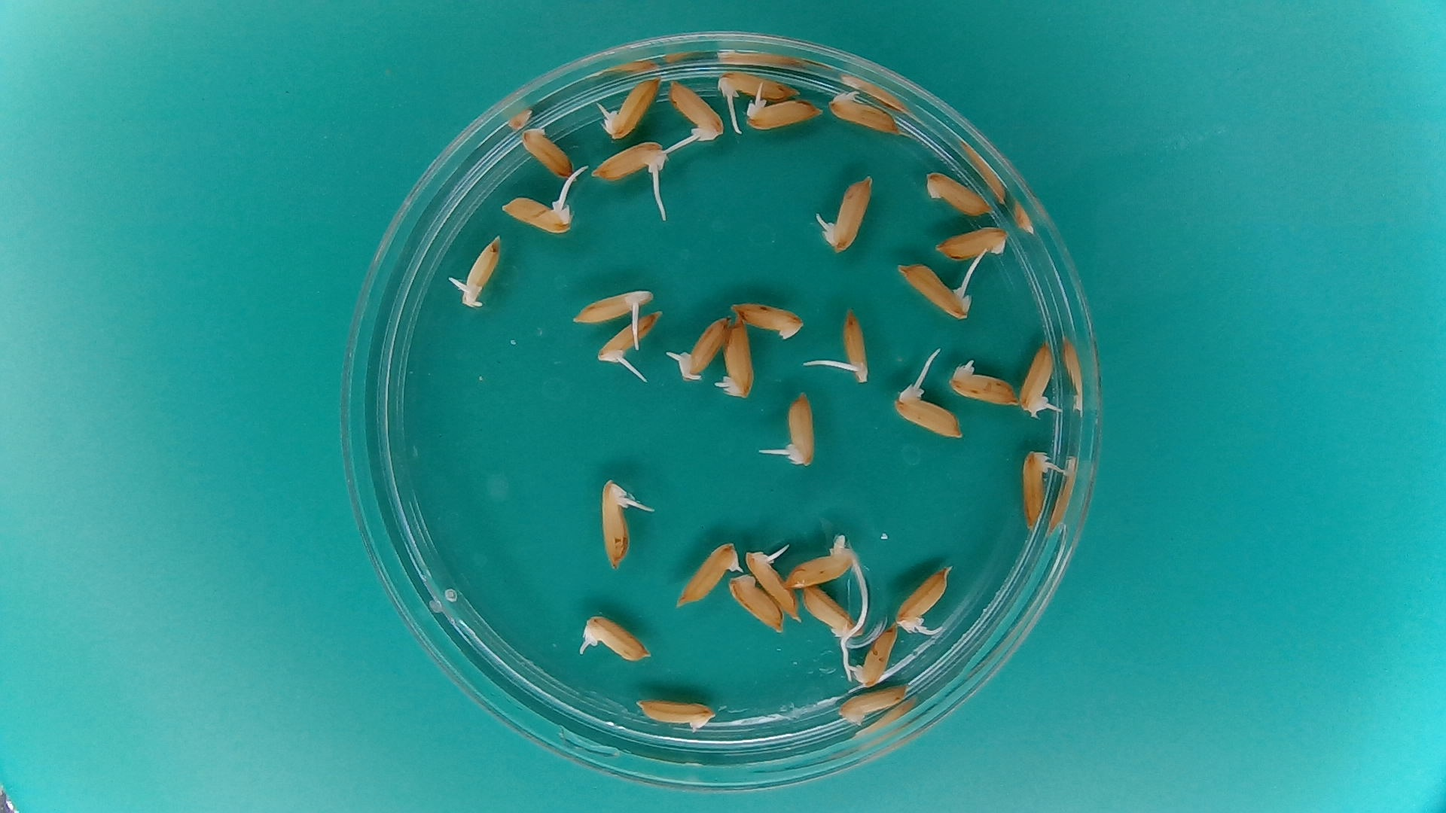no: (798, 583, 862, 641), (922, 168, 996, 218), (726, 572, 785, 633), (630, 694, 718, 733), (517, 120, 576, 178), (728, 300, 811, 338), (932, 223, 1011, 262), (837, 684, 910, 725)
yes: (899, 262, 975, 321), (892, 384, 966, 441), (673, 311, 734, 380), (823, 171, 874, 253), (679, 539, 740, 607), (745, 540, 797, 619), (596, 310, 666, 368), (601, 74, 662, 139), (664, 79, 725, 142), (457, 231, 504, 308), (782, 541, 856, 589), (569, 282, 651, 325), (826, 88, 901, 135), (893, 567, 948, 631), (593, 140, 670, 184), (1019, 340, 1060, 421), (715, 66, 800, 105), (1017, 450, 1057, 532), (716, 318, 755, 401), (599, 483, 636, 570), (850, 623, 899, 688), (581, 615, 648, 662), (950, 362, 1019, 407), (782, 388, 819, 466), (741, 93, 823, 128), (505, 195, 577, 234), (840, 306, 869, 379)
